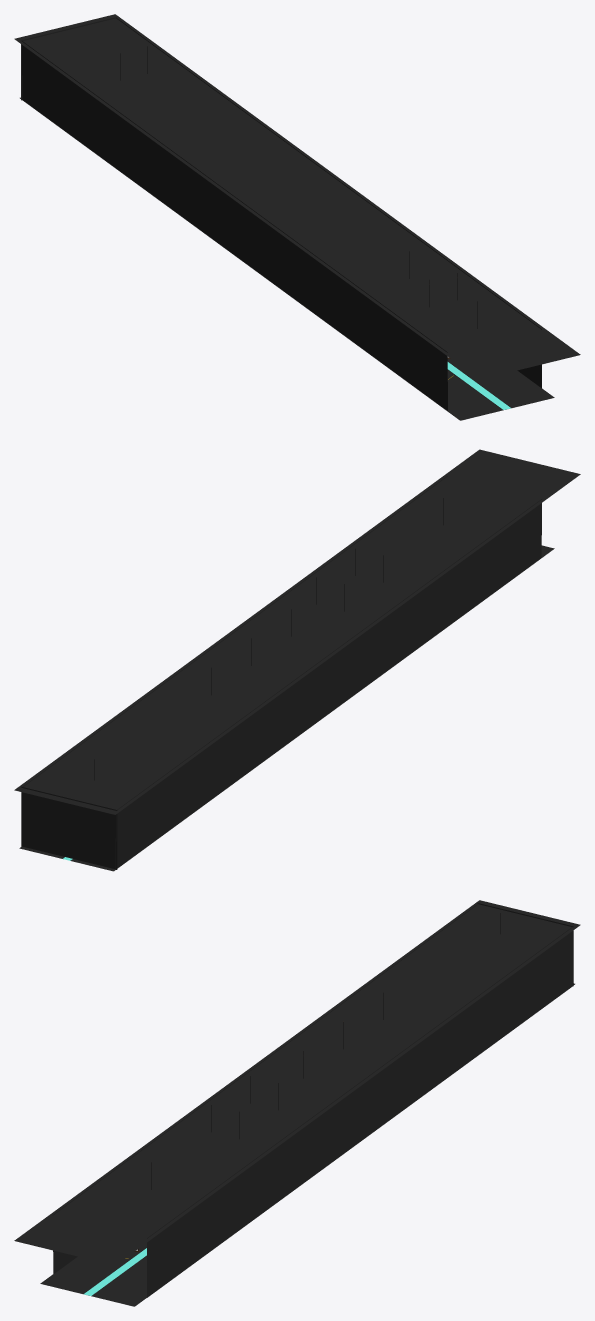
3 views of the same model, one above another, from view 1: azimuth 30°, elevation 25°; view 2: azimuth 150°, elevation 25°; view 3: azimuth 330°, elevation 25° (orthographic).
Parts seen in each view (by area): view 1: shifr, wall-right, floorr, wall-left; view 2: shifr, wall-right, devor-oxiri, floorr, wall-left; view 3: shifr, wall-left, floorr, wall-right.
Boxes of the visible parts, x1,y1,x2,y2 form: shifr: [14, 14, 580, 379]; wall-right: [22, 41, 447, 410]; floorr: [20, 97, 554, 420]; wall-left: [116, 18, 541, 388]; shifr: [14, 449, 580, 814]; wall-right: [115, 499, 541, 868]; devor-oxiri: [21, 786, 117, 869]; floorr: [19, 545, 554, 871]; wall-left: [21, 476, 447, 846]; shifr: [14, 900, 580, 1265]; wall-left: [147, 926, 572, 1297]; floorr: [40, 983, 574, 1306]; wall-right: [52, 903, 478, 1274].
Bounding box in the file's own units: 29.33 × 23.93 × 233.
Materials: 102 (85 with a texture image).
